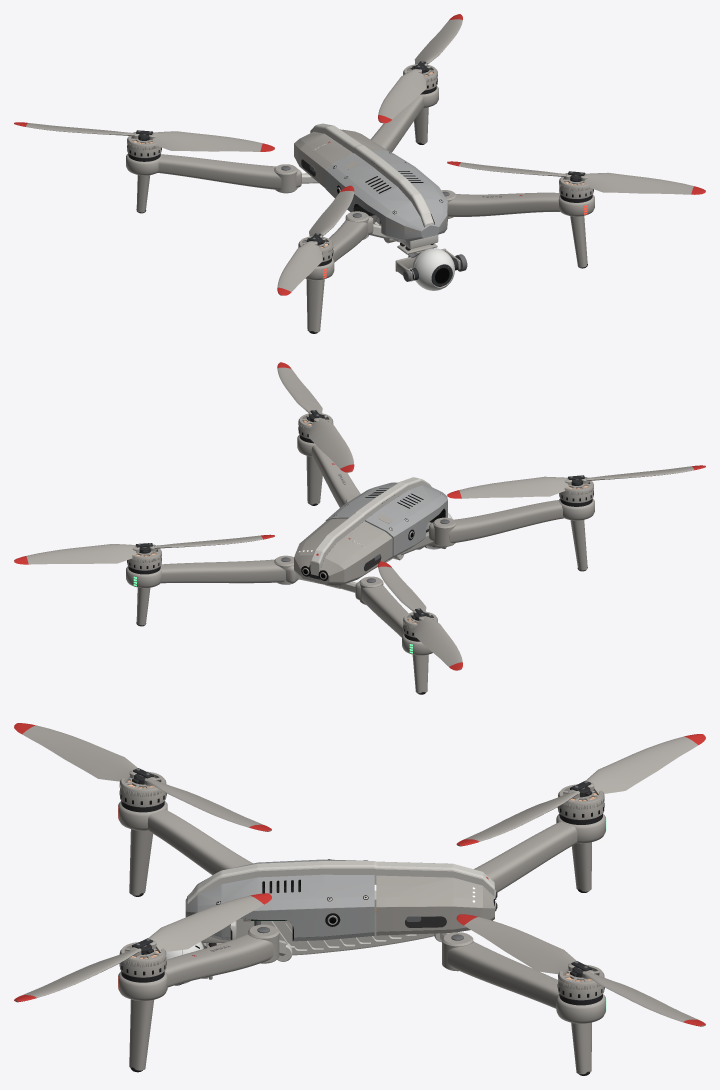
Rendered from terne.glb.
3 views of the same model, one above another, from view 1: azimuth 30°, elevation 25°; view 2: azimuth 150°, elevation 25°; view 3: azimuth 270°, elevation 25° (orthographic). The views are drawn at different scales.
Visible parts, largest first — view 1: TX_shell_front, TX_arm_body_RL, TX_arm_body_FR, TX_battery, TX_spine, TX_blade_RL_1, TX_blade_FR_0, TX_arm_body_RR, TX_blade_RR_1, TX_blade_FL_0, TX_arm_body_FL, TX_camera (+9 smaller); view 2: TX_battery, TX_shell_front, TX_arm_body_RR, TX_arm_body_FL, TX_spine, TX_blade_FL_1, TX_blade_RR_0, TX_arm_body_RL, TX_arm_body_FR, TX_blade_RL_0, TX_blade_FR_1, TX_knuckles (+9 smaller); view 3: TX_shell_front, TX_battery, TX_spine, TX_arm_body_RR, TX_arm_body_FR, TX_arm_body_RL, TX_arm_body_FL, TX_blade_FR_1, TX_blade_FL_0, TX_blade_RR_1, TX_blade_RL_0, TX_keel (+13 smaller).
Boxes of the visible parts, box(x1,y1,x2,y2) form: TX_shell_front: box(325, 150, 447, 241); TX_arm_body_RL: box(126, 153, 281, 189); TX_arm_body_FR: box(448, 192, 594, 216); TX_battery: box(294, 129, 388, 188); TX_spine: box(310, 123, 434, 227); TX_blade_RL_1: box(149, 131, 274, 151); TX_blade_FR_0: box(581, 172, 705, 194); TX_arm_body_RR: box(370, 86, 438, 152); TX_blade_RR_1: box(378, 68, 426, 123); TX_blade_FL_0: box(277, 241, 322, 295); TX_arm_body_FL: box(305, 220, 367, 280); TX_camera: box(412, 248, 454, 290); TX_battery: box(294, 518, 392, 585); TX_shell_front: box(325, 482, 447, 559); TX_arm_body_RR: box(126, 559, 285, 588); TX_arm_body_FL: box(449, 498, 594, 543); TX_spine: box(310, 477, 431, 575); TX_blade_FL_1: box(447, 476, 571, 498); TX_blade_RR_0: box(14, 544, 139, 564); TX_arm_body_RL: box(361, 585, 432, 655); TX_arm_body_FR: box(297, 435, 360, 507); TX_blade_RL_0: box(414, 616, 462, 670); TX_blade_FR_1: box(309, 417, 354, 472); TX_knuckles: box(274, 496, 456, 604); TX_shell_front: box(185, 859, 374, 941); TX_battery: box(376, 875, 494, 935); TX_spine: box(187, 861, 494, 904); TX_arm_body_RR: box(447, 941, 605, 1023); TX_arm_body_FR: box(118, 933, 273, 1000); TX_arm_body_RL: box(474, 813, 605, 892); TX_arm_body_FL: box(118, 801, 252, 875); TX_blade_FR_1: box(148, 893, 271, 952); TX_blade_FL_0: box(14, 723, 137, 781); TX_blade_RR_1: box(456, 914, 576, 974); TX_blade_RL_0: box(586, 734, 705, 794); TX_keel: box(236, 890, 434, 955).
Size of the model in its own units: 0.4601 by 0.0934 by 0.4608.
